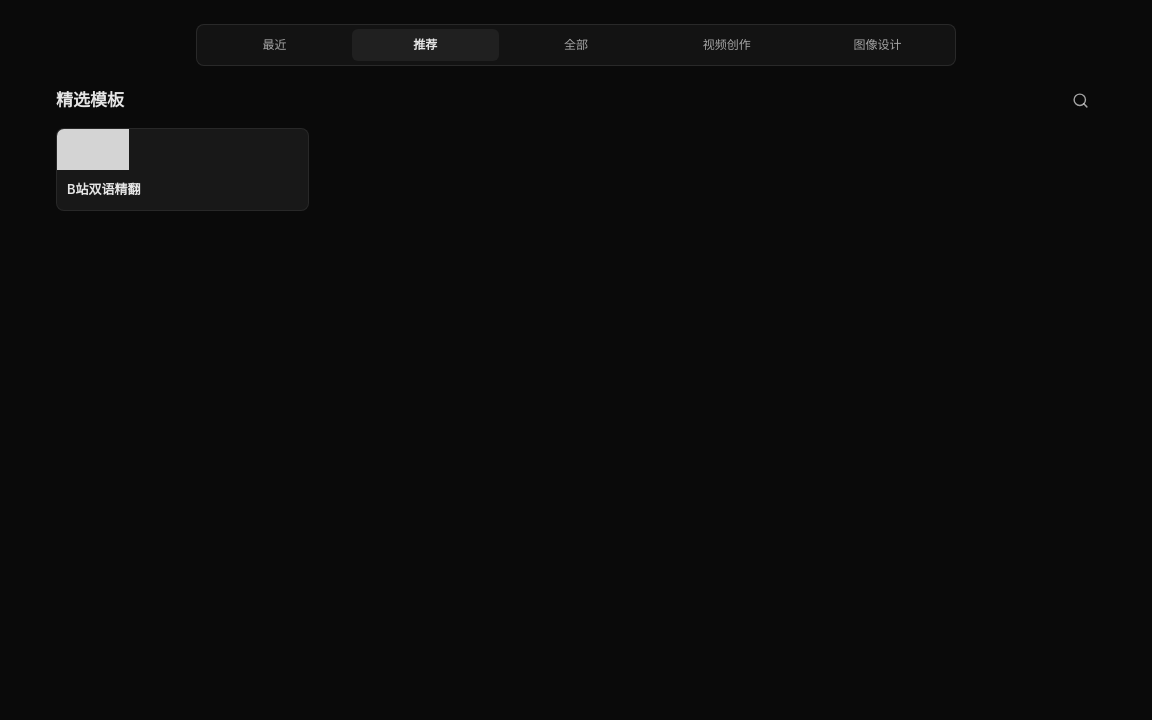
Test case: CreatorDashboard › adds a decorative video marker for image-generation: false
The width and height of the screenshot is (1152, 720).
Click the button with aria-label "查看B站双语精翻模板详情" at (182,169), box [56, 128, 308, 210]
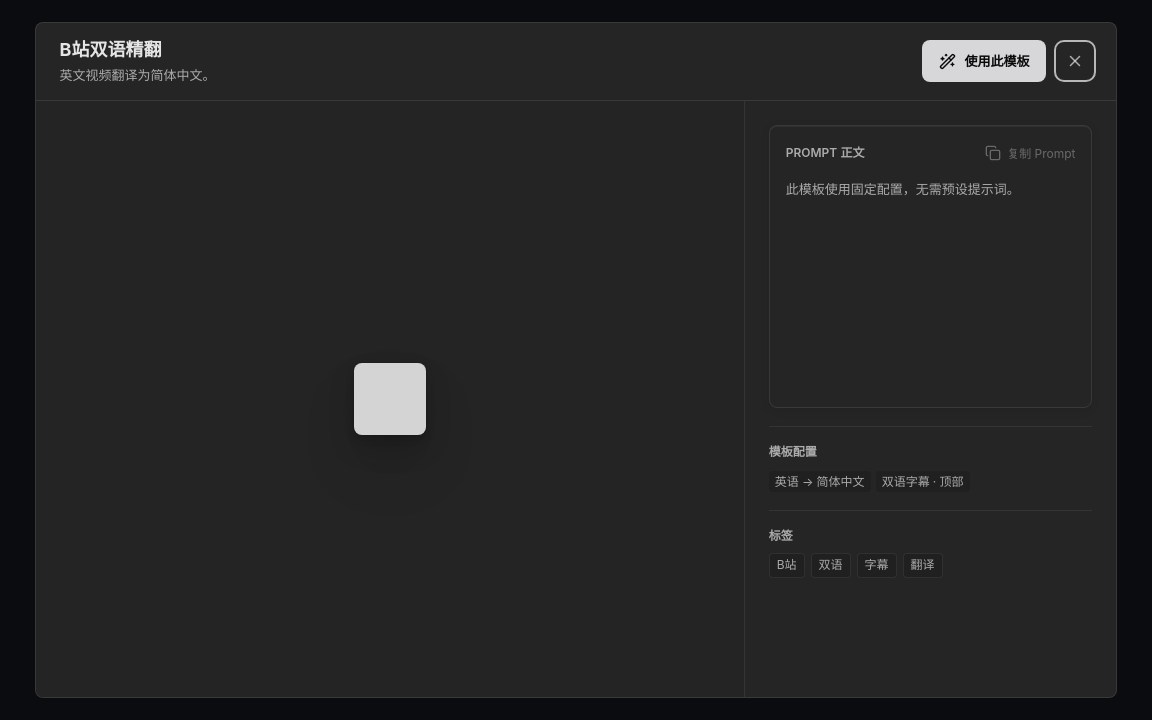
expect the heading "B站双语精翻" is shown: met, box [60, 39, 162, 60]
